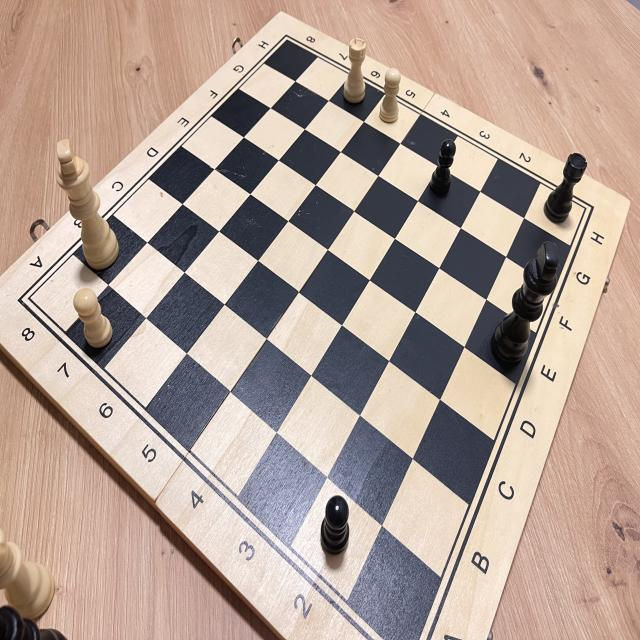black-king: (482, 235, 565, 376)
black-pawn: (315, 488, 357, 568), (426, 132, 460, 208)
black-rook: (539, 144, 594, 230)
white-king: (48, 126, 124, 278)
white-pawn: (69, 282, 118, 365), (377, 62, 407, 130)
white-rook: (340, 31, 376, 114)
